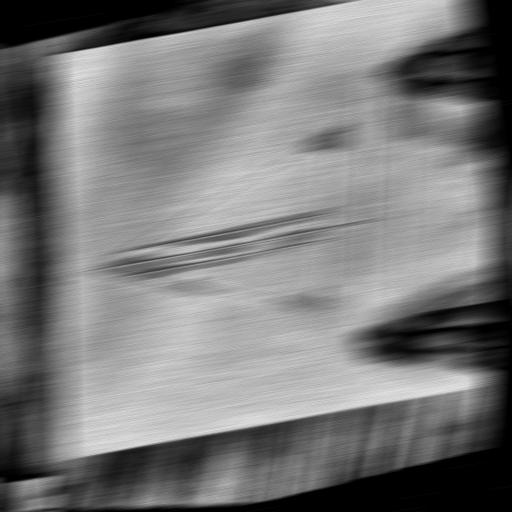boat: (26, 53, 512, 404)
top_left: (51, 453, 77, 464)
top_right: (40, 45, 71, 59)
